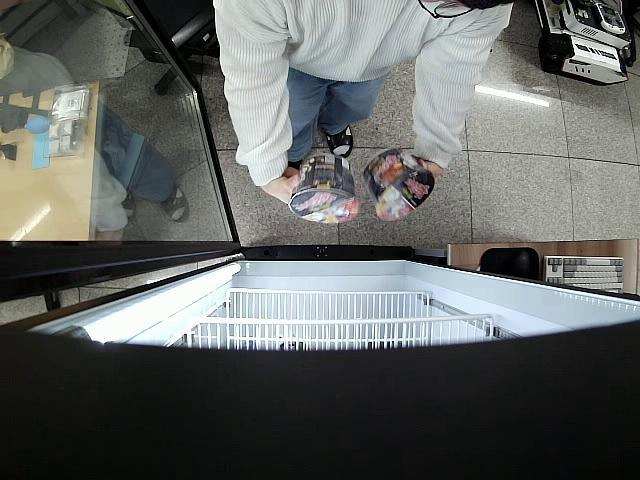07_buldak_L: (363, 148, 434, 224), (288, 154, 359, 226)
